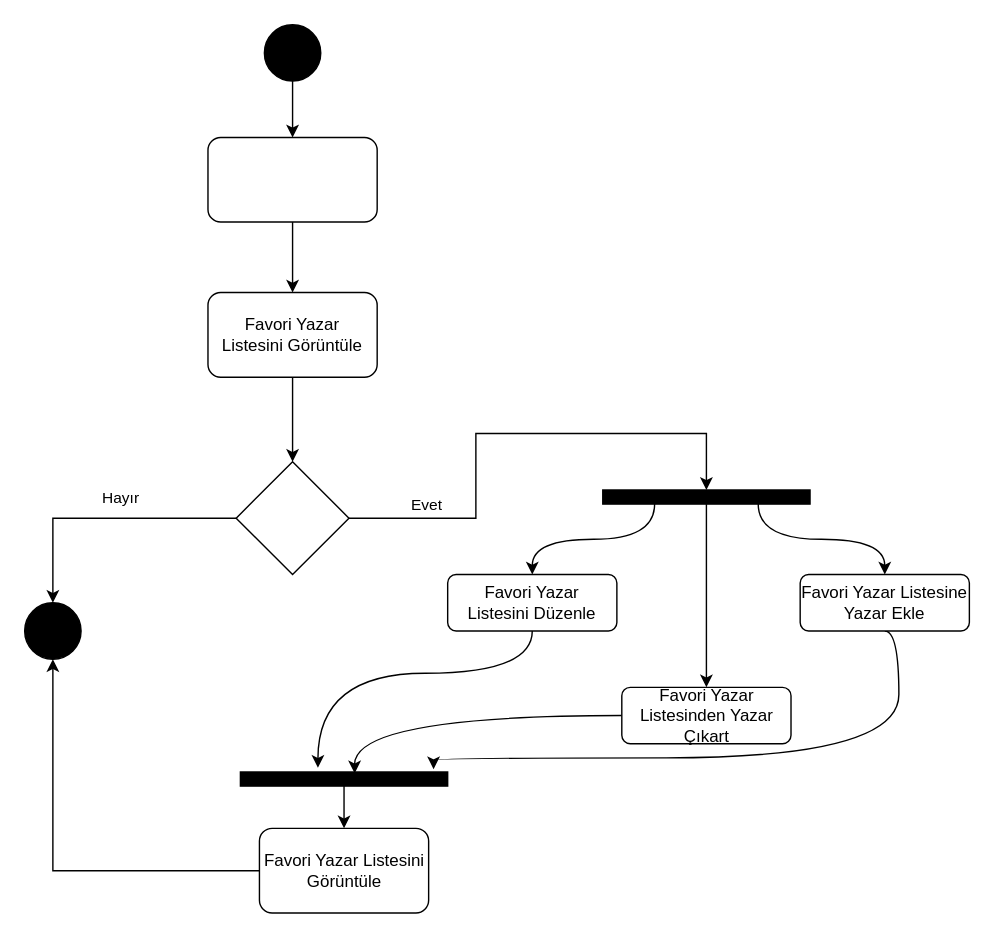
Some shapes in this 994 by 938 pixel diagram are drawn without their labels. The shapes that lost their labels are listed below. From the top down, each one's centre as x and y in pixels, then its label:
At (x=292, y=179): "Favori Yazar Listesini Oluştur".
At (x=292, y=517): "İşlem".
